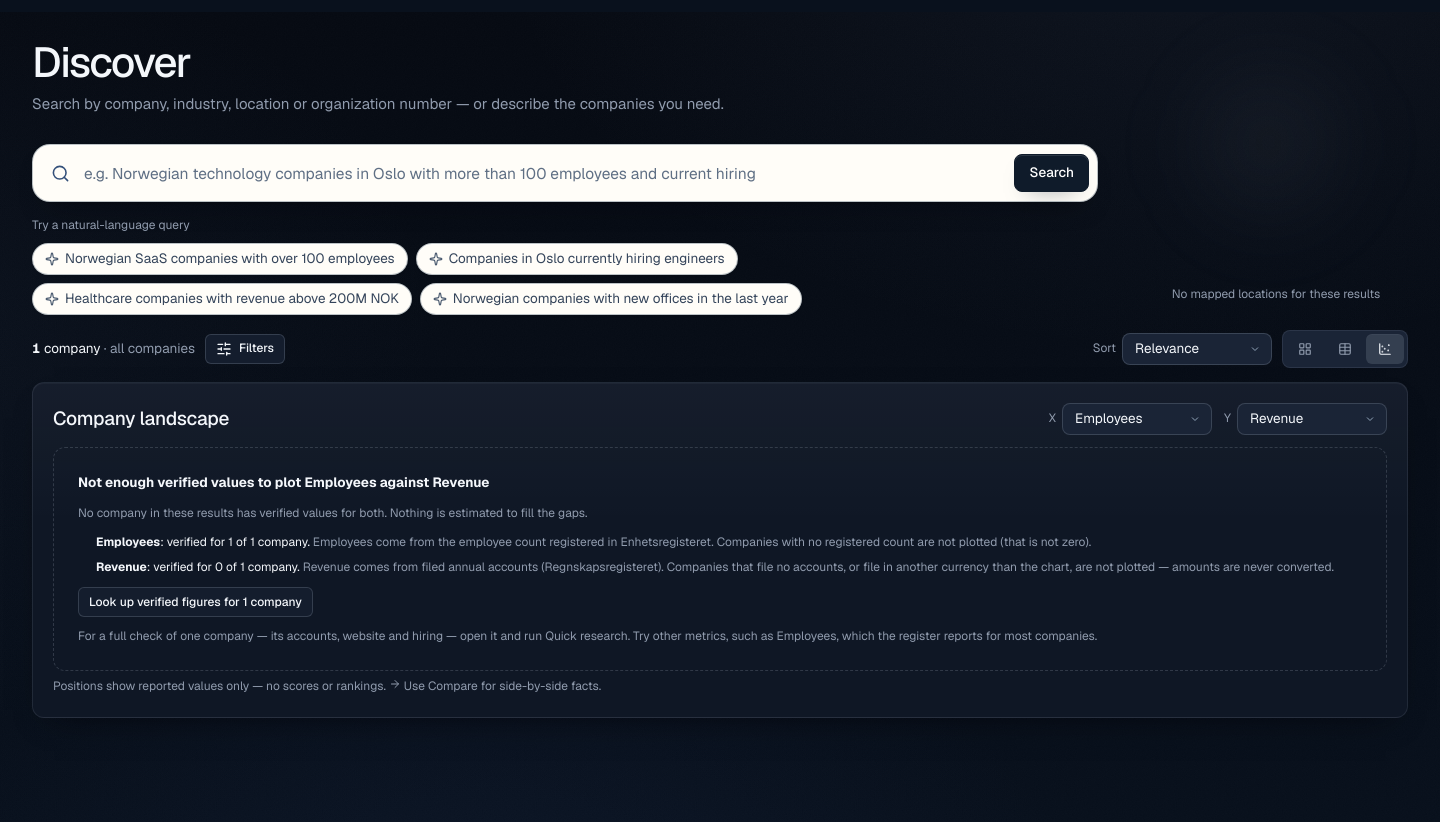
Test: Company landscape › says so when the lookups found nothing more
Select "Open positions" in the dropdown labelled "X" at (1137, 419), box x1=1062 y1=403 x2=1212 y2=435
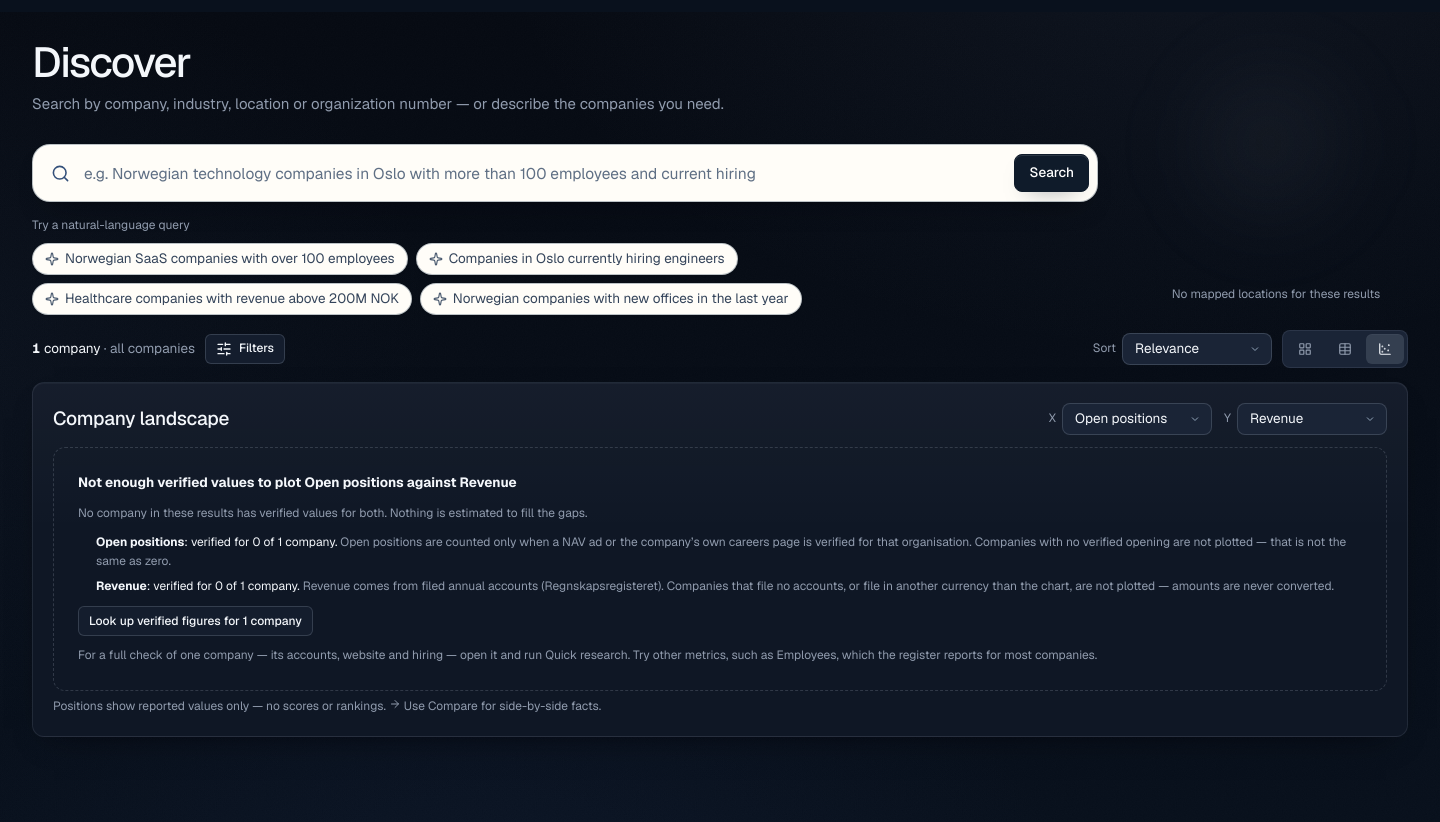
Click the button "Look up verified figures for 1 company" at (195, 621), box x1=78 y1=606 x2=313 y2=636
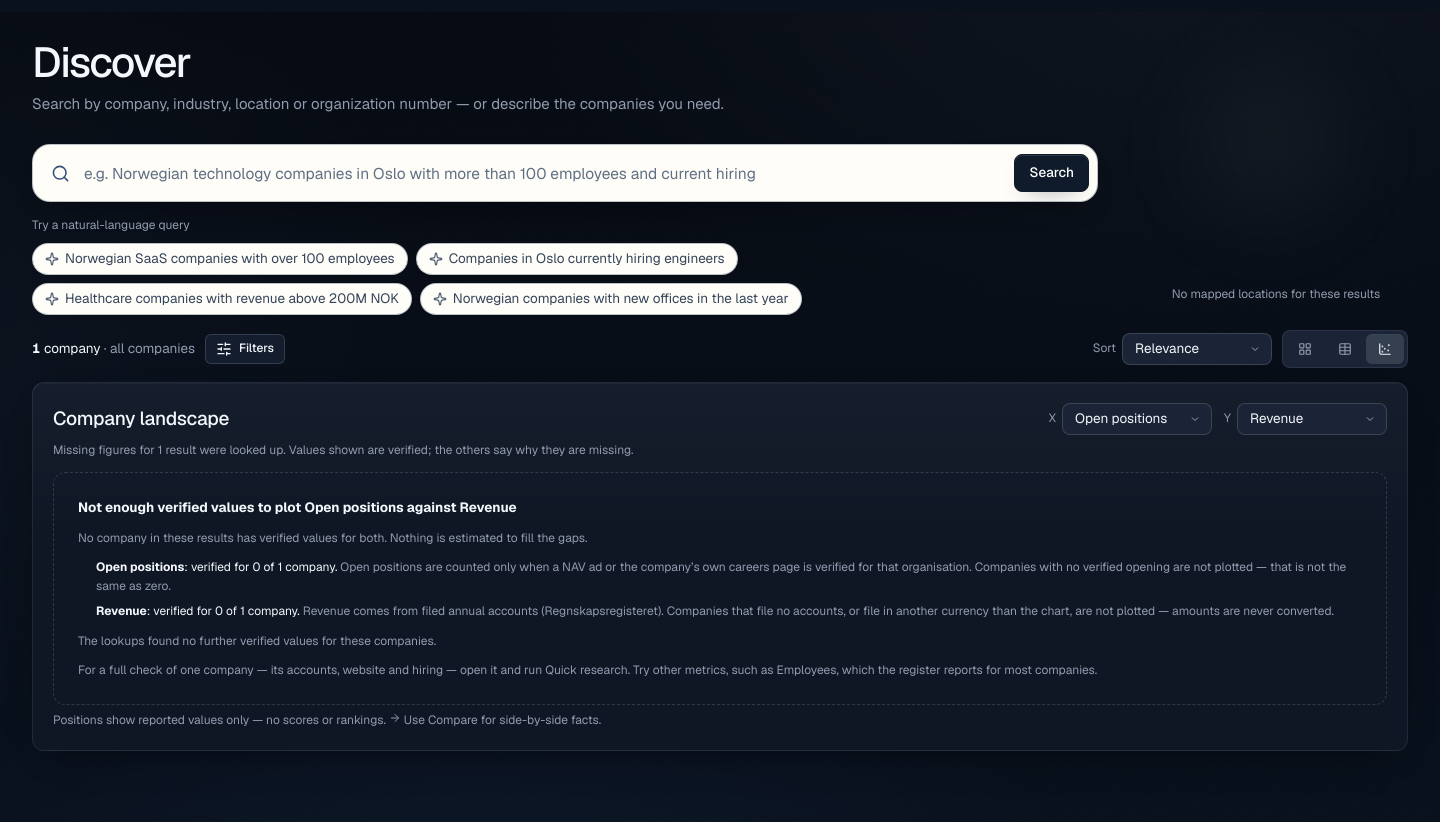
Expected: the element with test id "landscape-empty" is shown, x1=53 y1=472 x2=1387 y2=705
Expected: the text "The lookups found no further verified values for these companies." is shown, x1=78 y1=632 x2=436 y2=651
